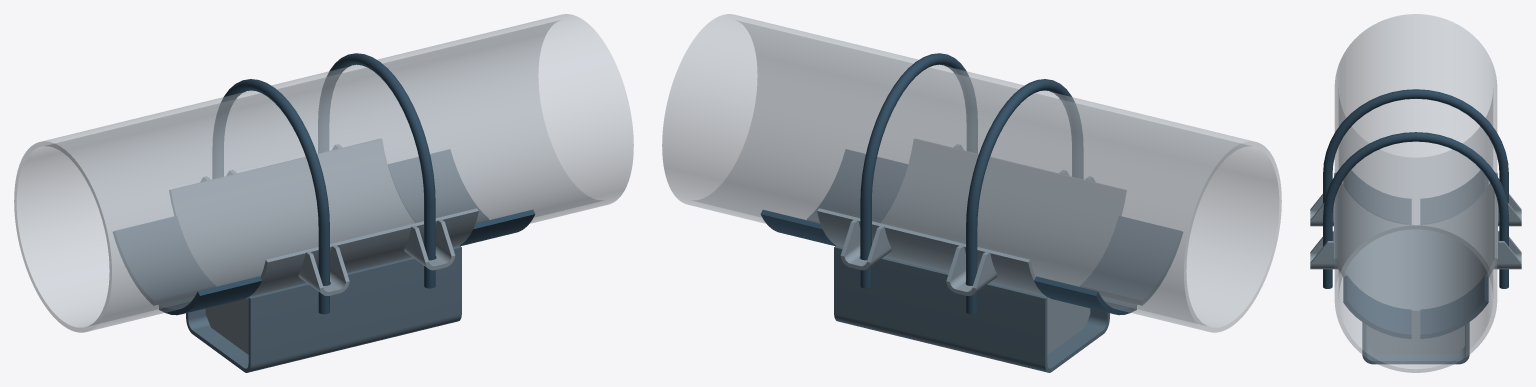
File: TS-670.00.00-21-opora-dn273-H100.glb
3 views of the same model, side by side, from view 1: azimuth 30°, elevation 25°; view 2: azimuth 150°, elevation 25°; view 3: azimuth 270°, elevation 25° (orthographic). The views are drawn at different scales.
Parts seen in each view (by area): view 1: truba, podushka_0, skoba_1, upor_-1_1, homut_-1, homut_1, upor_1_1, upor_-1_-1, rebro_2, ushko_6, ushko_8, upor_1_-1; view 2: truba, podushka_0, skoba_1, upor_-1_-1, homut_-1, homut_1, upor_1_-1, upor_-1_1, rebro_2, ushko_5, ushko_7, upor_1_1; view 3: truba, podushka_0, homut_1, homut_-1, rebro_4, upor_1_1, upor_1_-1, upor_-1_1, upor_-1_-1, skoba_1, ushko_5, ushko_6 (+2 smaller).
Part boxes in pixels (bbox=[...]): truba: bbox=[14, 14, 633, 332]; podushka_0: bbox=[169, 139, 478, 298]; skoba_1: bbox=[186, 245, 461, 372]; upor_-1_1: bbox=[113, 216, 215, 305]; homut_-1: bbox=[212, 79, 329, 314]; homut_1: bbox=[318, 53, 435, 288]; upor_1_1: bbox=[388, 149, 488, 222]; upor_-1_-1: bbox=[159, 276, 261, 315]; rebro_2: bbox=[205, 298, 248, 354]; ushko_6: bbox=[404, 219, 455, 270]; ushko_8: bbox=[298, 245, 349, 295]; upor_1_-1: bbox=[460, 209, 535, 246]; truba: bbox=[662, 14, 1281, 332]; podushka_0: bbox=[817, 139, 1126, 298]; skoba_1: bbox=[834, 245, 1109, 372]; upor_-1_-1: bbox=[1080, 216, 1182, 305]; homut_-1: bbox=[966, 79, 1083, 314]; homut_1: bbox=[860, 53, 977, 288]; upor_1_-1: bbox=[807, 149, 907, 222]; upor_-1_1: bbox=[1034, 276, 1136, 315]; rebro_2: bbox=[1047, 298, 1090, 354]; ushko_5: bbox=[840, 219, 891, 270]; ushko_7: bbox=[946, 245, 997, 295]; upor_1_1: bbox=[760, 209, 835, 246]; truba: bbox=[1334, 14, 1497, 372]; podushka_0: bbox=[1334, 172, 1497, 313]; homut_1: bbox=[1323, 132, 1508, 288]; homut_-1: bbox=[1323, 89, 1508, 203]; rebro_4: bbox=[1367, 314, 1464, 354]; upor_1_1: bbox=[1420, 275, 1488, 338]; upor_1_-1: bbox=[1343, 275, 1411, 338]; upor_-1_1: bbox=[1420, 170, 1488, 224]; upor_-1_-1: bbox=[1343, 170, 1411, 224]; skoba_1: bbox=[1362, 322, 1469, 364]; ushko_5: bbox=[1494, 230, 1521, 269]; ushko_6: bbox=[1310, 230, 1337, 269].
Size of the model in its own units: 840 by 389 by 355.
